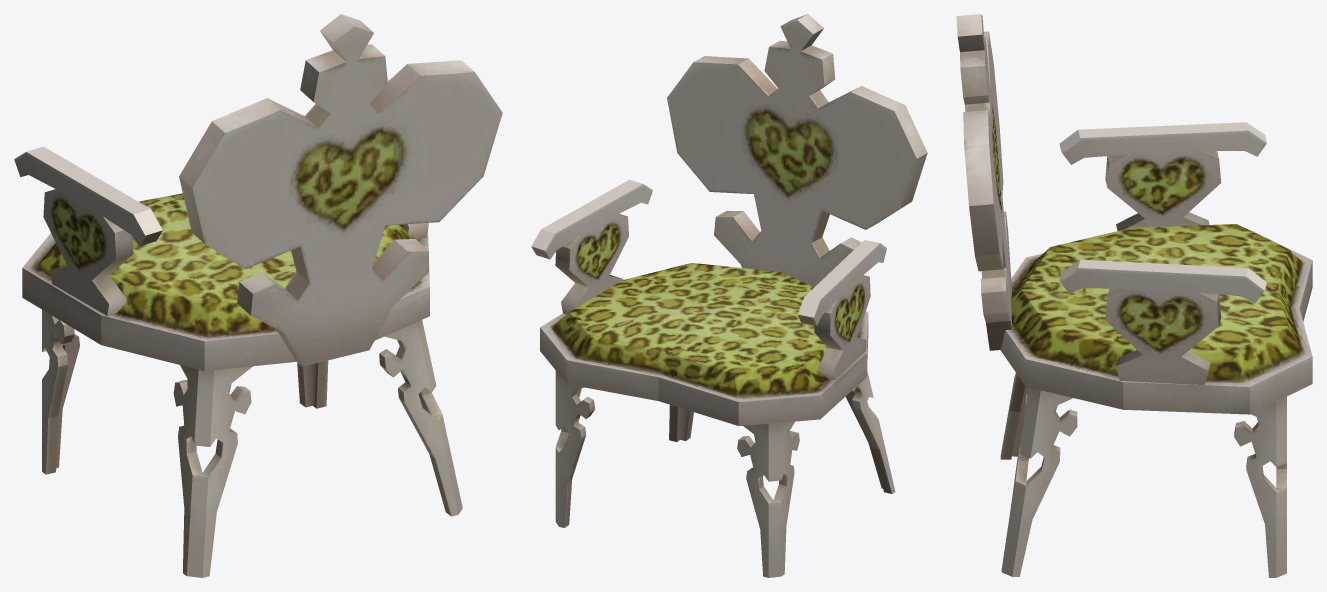
File: furni_0200079_01.FBX
The picture shows the model from 3 angles, left to right: view 1: azimuth 30°, elevation 25°; view 2: azimuth 150°, elevation 25°; view 3: azimuth 270°, elevation 25°; orthographic projection. The views are drawn at different scales.
Parts seen in each view (by area): view 1: furni_0200079_01; view 2: furni_0200079_01; view 3: furni_0200079_01.
Part boxes in pixels (x1,y1,x2,y2): furni_0200079_01: (14,14,502,577); furni_0200079_01: (531,14,927,577); furni_0200079_01: (956,14,1312,577).
Bounding box in the file's own units: 67.75 × 99.68 × 64.29.
1 material, 1 textured.
